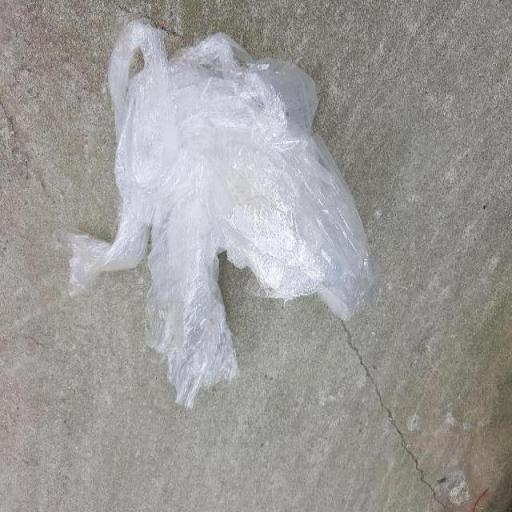plastic-bag: (51, 20, 375, 413)
